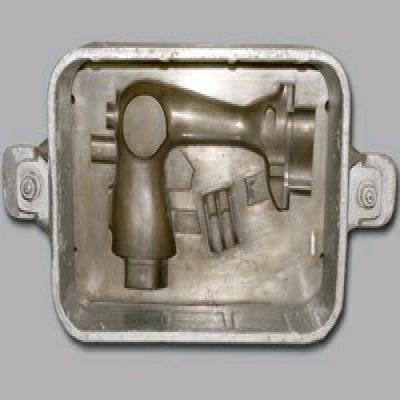technique: (7, 42, 400, 348)
